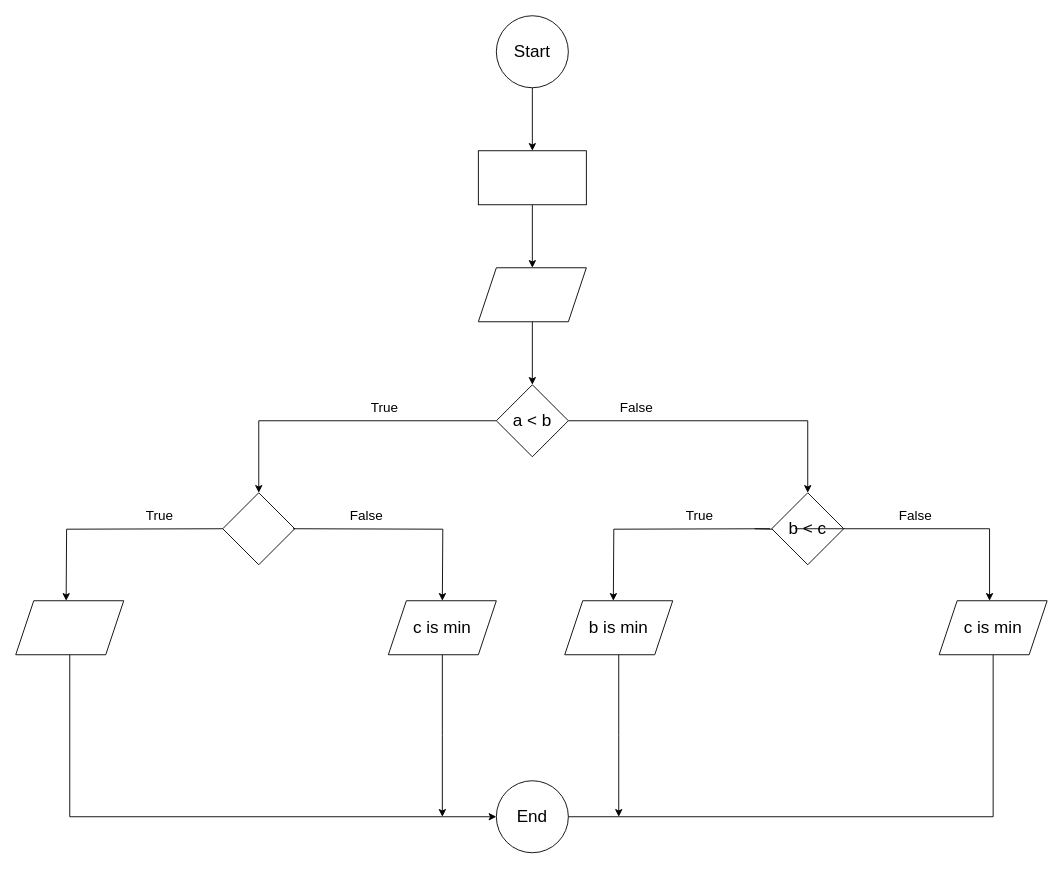
This 1063x869 diagram has some shape labels left out. Here are the shapes that lost their labels. From the top down, the centre of each, then its label:
At pixel 531 177: "int a, b and c".
At pixel 531 294: "Read the variable".
At pixel 258 528: "a < c".
At pixel 69 627: "a is min".
